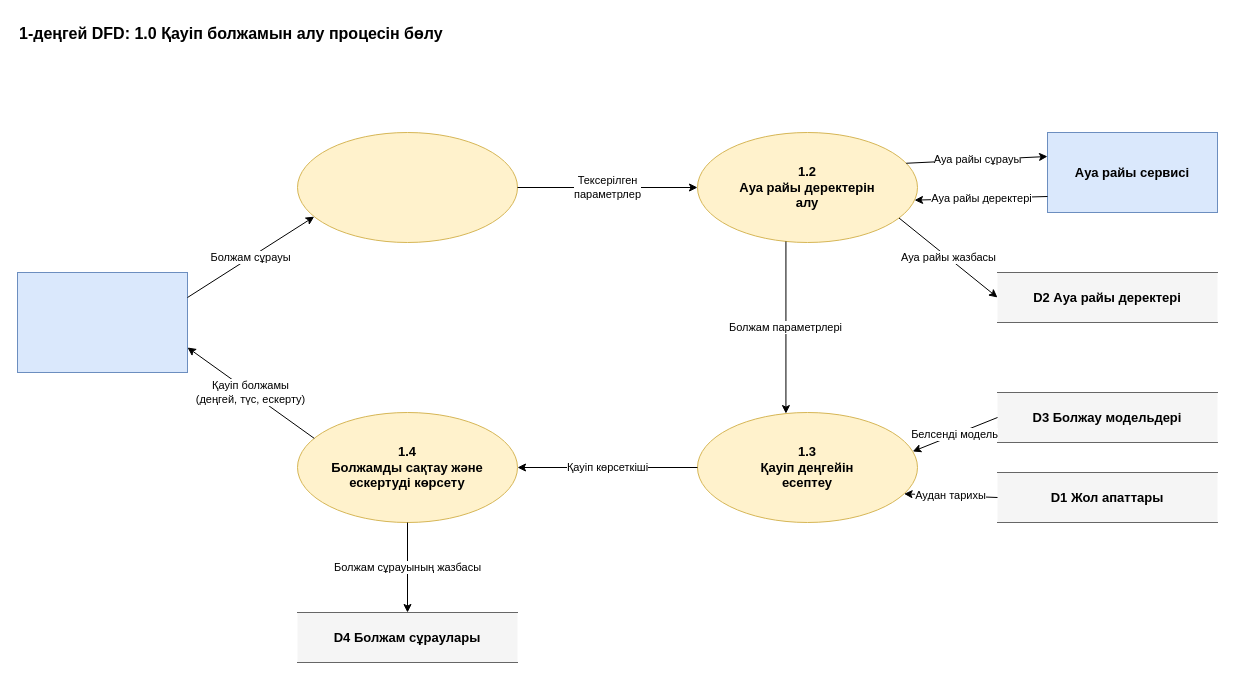
Some shapes in this 1235 by 680 pixel diagram are drawn without their labels. The centre of each missing label's shape, as x and y in pixels:
1.1 Болжам сұрауын тексеру: [407,187]
Жүргізуші: [102,322]
